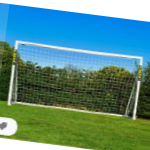goals: (8, 40, 143, 122)
